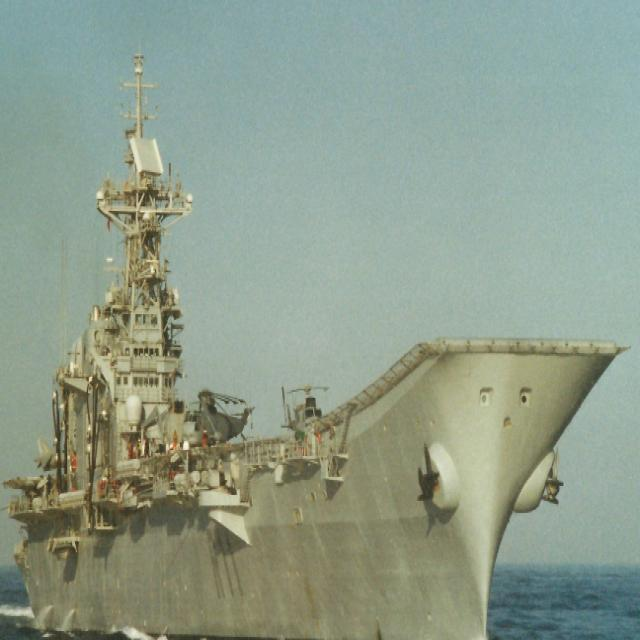Portanaves: (4, 44, 627, 640)
